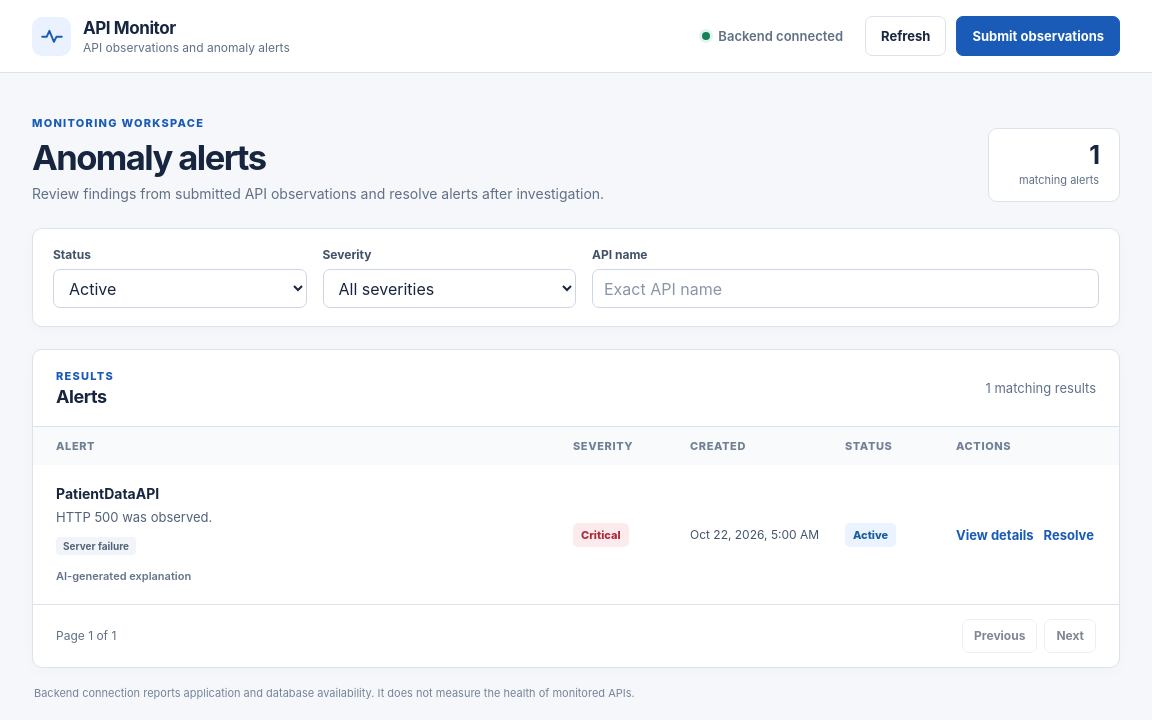
Test: Escape closes details and returns keyboard focus to the invoking button
The width and height of the screenshot is (1152, 720).
Click the button with aria-label "View details for PatientDataAPI" at x=995, y=534, box [956,522,1034,546]
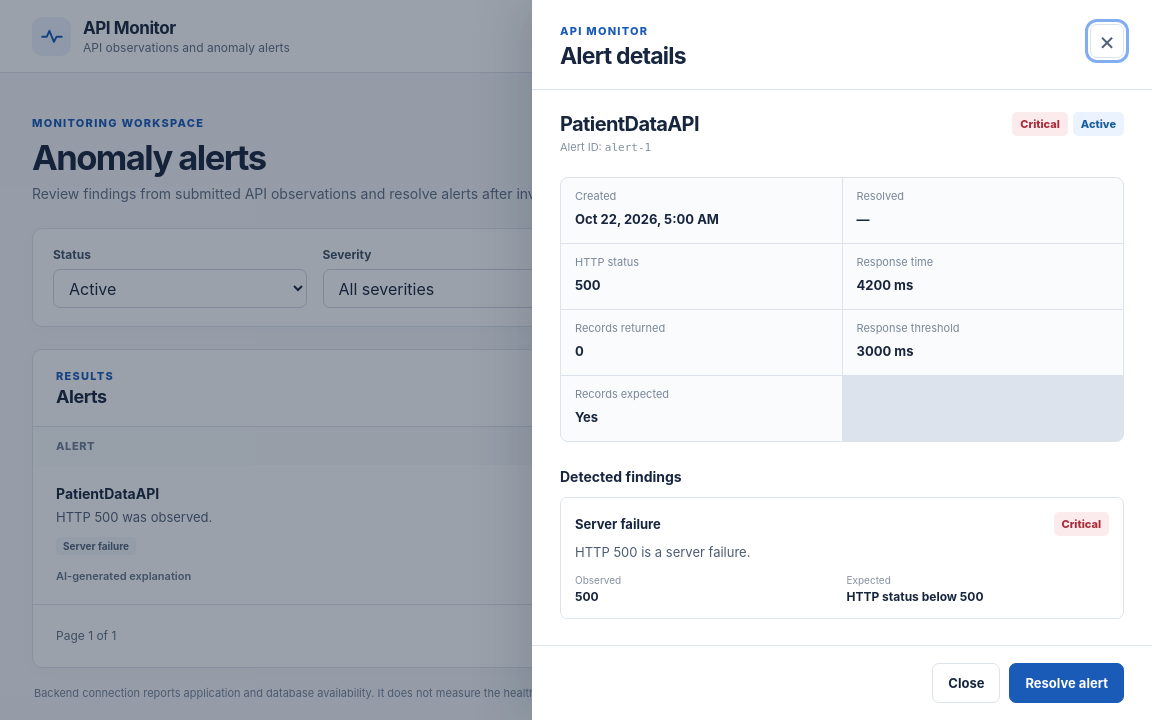
expect the dialog "Alert details" is shown: met, box [532,0,1151,719]
Press Escape
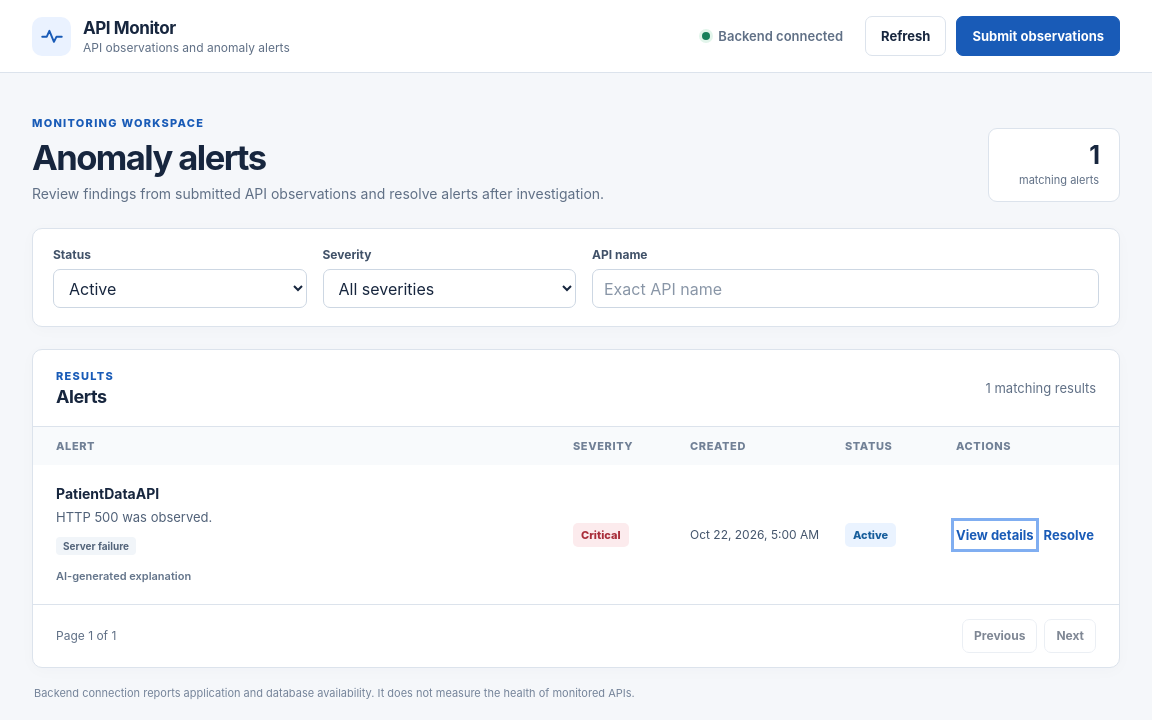
expect the dialog is gone: met
